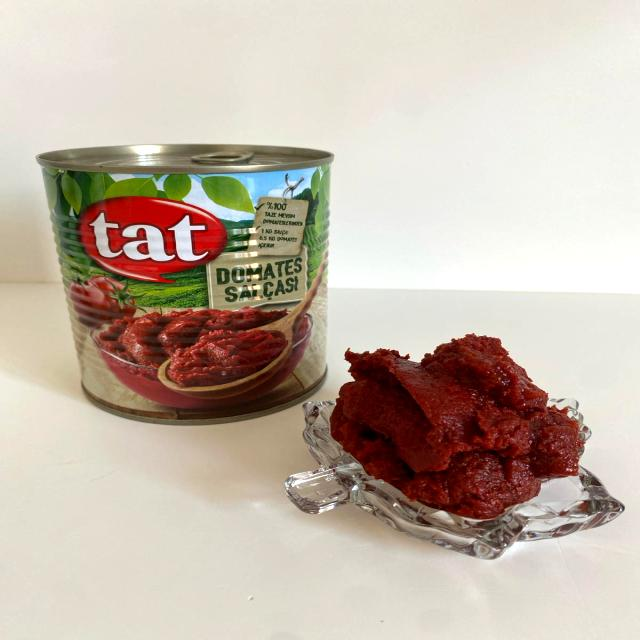tomato paste: (54, 151, 326, 404), (333, 347, 580, 515)
